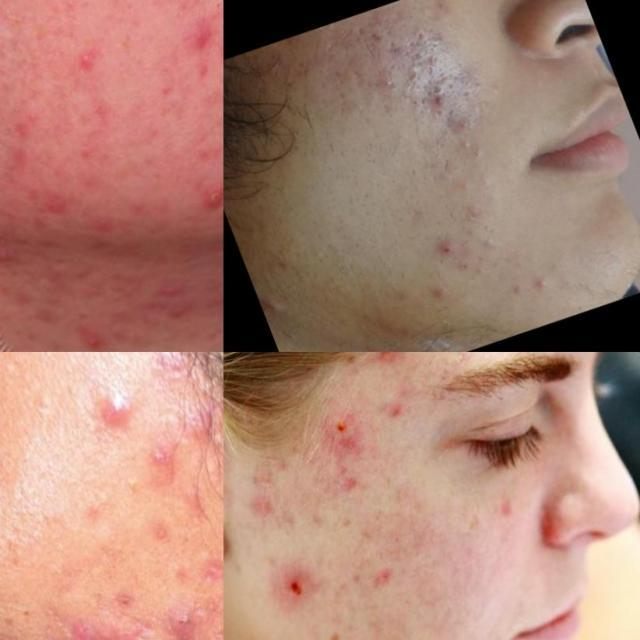Pimples: (47, 592, 141, 640), (88, 371, 146, 442), (180, 11, 223, 74), (157, 594, 213, 640), (141, 426, 183, 481), (69, 313, 121, 352), (278, 566, 320, 606), (522, 264, 560, 308), (418, 78, 460, 116), (416, 48, 452, 84), (344, 59, 375, 96), (428, 278, 456, 312), (427, 234, 459, 262), (329, 413, 356, 446), (464, 142, 494, 170), (453, 254, 481, 282), (373, 352, 409, 372), (366, 26, 388, 51)
